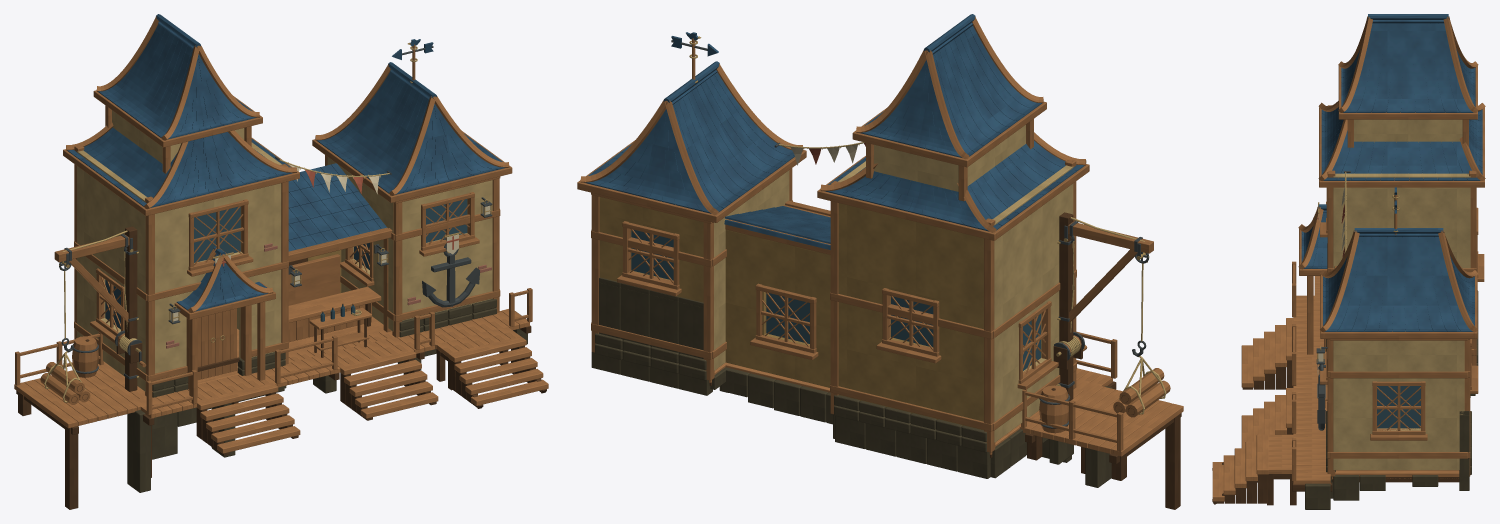
The model's file is terminal.glb.
3 views of the same model, side by side, from view 1: azimuth 30°, elevation 25°; view 2: azimuth 150°, elevation 25°; view 3: azimuth 270°, elevation 25° (orthographic). The views are drawn at different scales.
Parts seen in each view (by area): view 1: Terminal_Ref_TR20_wood, Terminal_Ref_TN25_NavyRoof, Terminal_Ref_TR20_deck, Terminal_Ref_TR20_ivory, Terminal_Ref_TR20_beam, Terminal_Ref_TR20_stone, Terminal_Ref_Glass, Terminal_Ref_D19_ForgedIron, Terminal_Ref_Rope, Terminal_Ref_Town_canvas; view 2: Terminal_Ref_TR20_wood, Terminal_Ref_TR20_plaster, Terminal_Ref_TN25_NavyRoof, Terminal_Ref_TR20_stone, Terminal_Ref_TR20_ivory, Terminal_Ref_TR20_deck, Terminal_Ref_TR20_beam, Terminal_Ref_Glass, Terminal_Ref_Rope, Terminal_Ref_D19_ForgedIron; view 3: Terminal_Ref_TN25_NavyRoof, Terminal_Ref_TR20_ivory, Terminal_Ref_TR20_wood, Terminal_Ref_TR20_deck, Terminal_Ref_TR20_stone, Terminal_Ref_TR20_beam, Terminal_Ref_Glass, Terminal_Ref_D19_ForgedIron.
Part boxes in pixels (<box>): Terminal_Ref_TR20_wood: <box>15,16,532,414</box>; Terminal_Ref_TN25_NavyRoof: <box>67,14,505,311</box>; Terminal_Ref_TR20_deck: <box>14,286,548,453</box>; Terminal_Ref_TR20_ivory: <box>77,110,492,391</box>; Terminal_Ref_TR20_beam: <box>16,226,546,509</box>; Terminal_Ref_TR20_stone: <box>98,299,527,492</box>; Terminal_Ref_Glass: <box>105,199,467,329</box>; Terminal_Ref_D19_ForgedIron: <box>59,46,492,379</box>; Terminal_Ref_Rope: <box>44,159,389,402</box>; Terminal_Ref_Town_canvas: <box>170,164,490,321</box>; Terminal_Ref_TR20_wood: <box>577,17,1170,452</box>; Terminal_Ref_TR20_plaster: <box>599,197,983,430</box>; Terminal_Ref_TN25_NavyRoof: <box>584,14,1084,249</box>; Terminal_Ref_TR20_stone: <box>591,277,1112,487</box>; Terminal_Ref_TR20_ivory: <box>714,125,1073,442</box>; Terminal_Ref_TR20_deck: <box>709,362,1183,456</box>; Terminal_Ref_TR20_beam: <box>709,212,1181,509</box>; Terminal_Ref_Glass: <box>631,229,1040,370</box>; Terminal_Ref_Rope: <box>779,142,1166,414</box>; Terminal_Ref_D19_ForgedIron: <box>671,40,1149,428</box>; Terminal_Ref_TN25_NavyRoof: <box>1301,14,1482,331</box>; Terminal_Ref_TR20_ivory: <box>1333,119,1470,470</box>; Terminal_Ref_TR20_wood: <box>1292,16,1485,480</box>; Terminal_Ref_TR20_deck: <box>1212,276,1459,501</box>; Terminal_Ref_TR20_stone: <box>1305,290,1478,509</box>; Terminal_Ref_TR20_beam: <box>1212,360,1459,505</box>; Terminal_Ref_Glass: <box>1377,386,1420,428</box>; Terminal_Ref_D19_ForgedIron: <box>1316,171,1396,430</box>.
Size of the model in its own units: 12.61 by 10.85 by 6.56.
14 materials, 8 textured.
